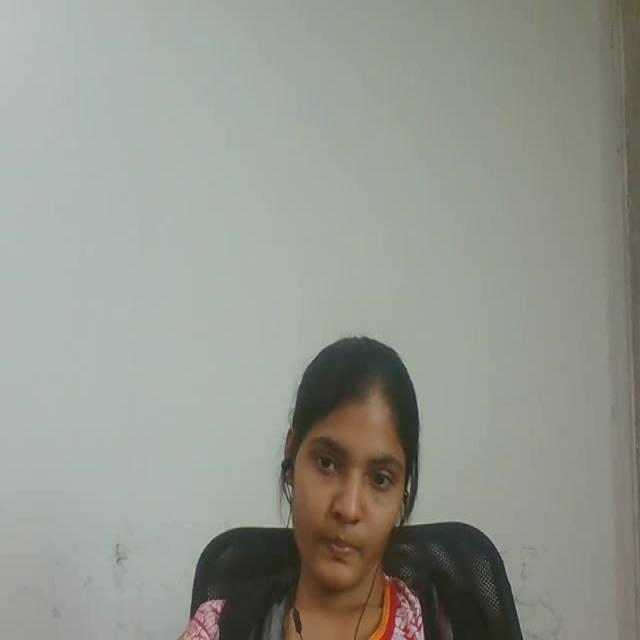Engaged: (261, 295, 437, 615)
